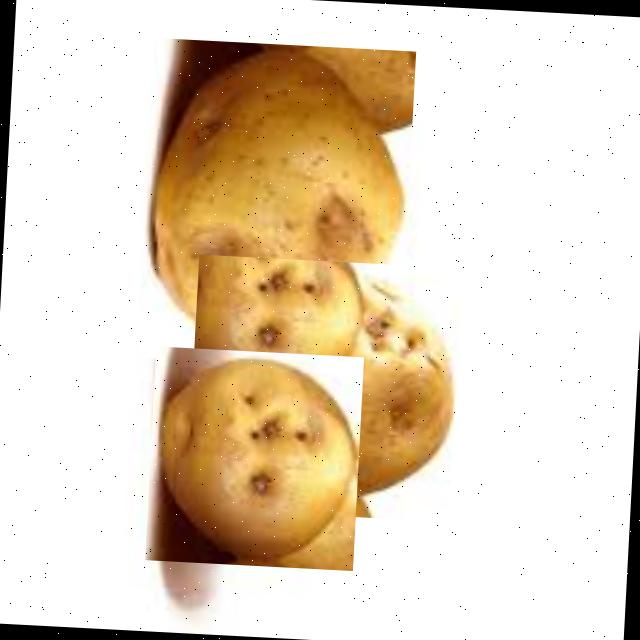Potato: (138, 37, 416, 370), (186, 254, 463, 521), (145, 346, 364, 570)
